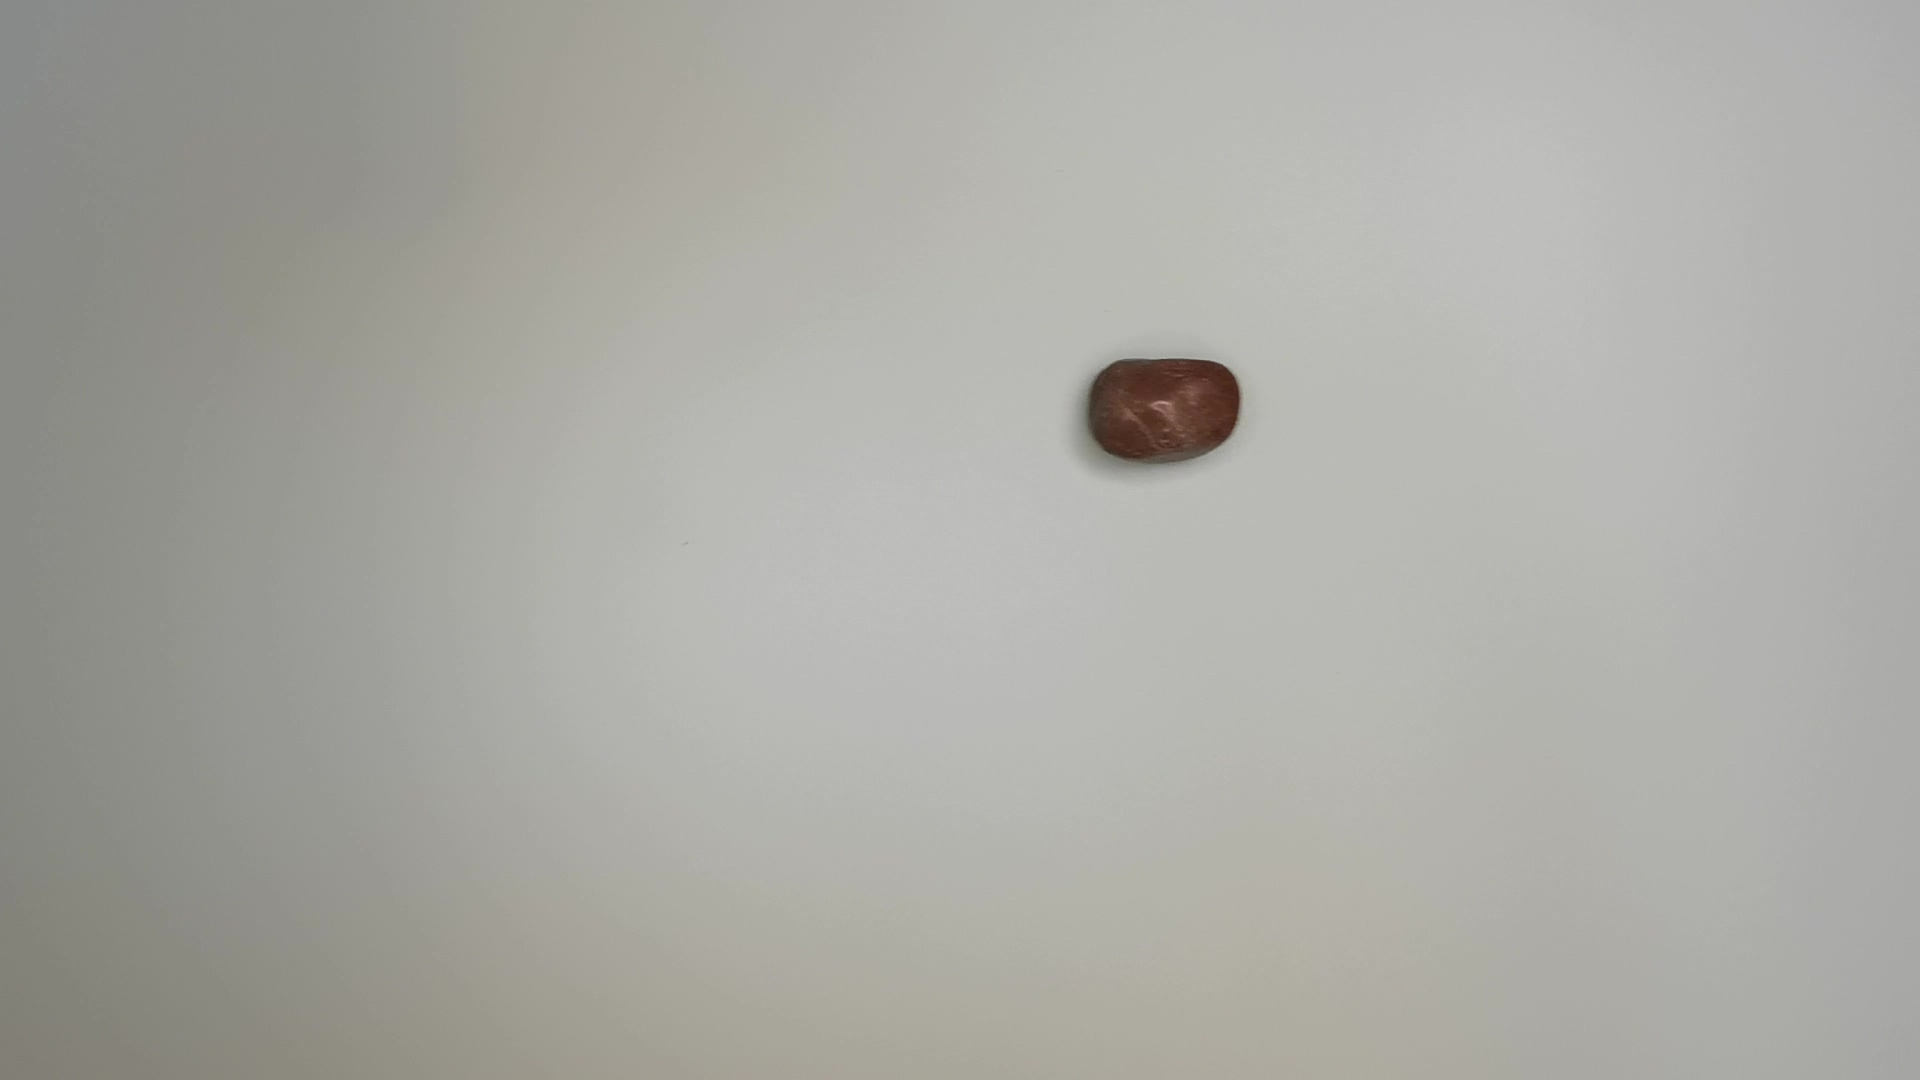ceramic: (1075, 353, 1254, 476)
